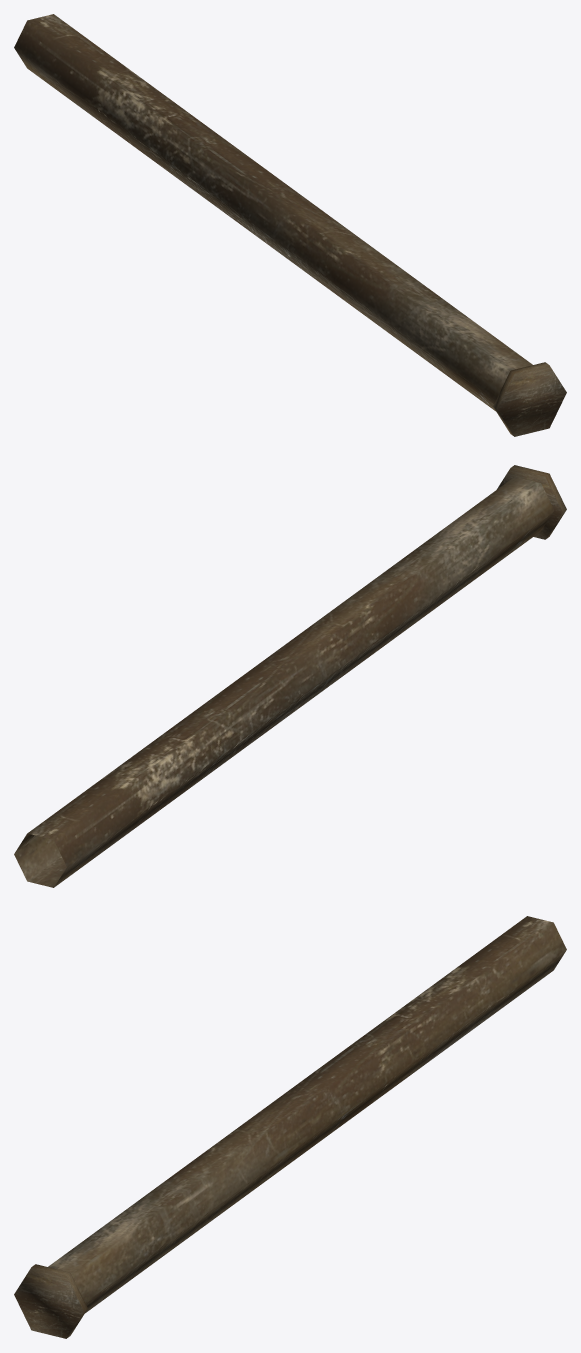
The model's file is small_brown_4.fbx.
3 views of the same model, one above another, from view 1: azimuth 30°, elevation 25°; view 2: azimuth 150°, elevation 25°; view 3: azimuth 330°, elevation 25° (orthographic).
Visible parts, largest first — view 1: polySurface663; view 2: polySurface663; view 3: polySurface663.
Boxes of the visible parts, x1,y1,x2,y2 form: polySurface663: (14, 14, 566, 436); polySurface663: (14, 465, 566, 887); polySurface663: (14, 916, 566, 1338).
Bounding box in the file's own units: 0.3294 × 0.2853 × 4.02.
